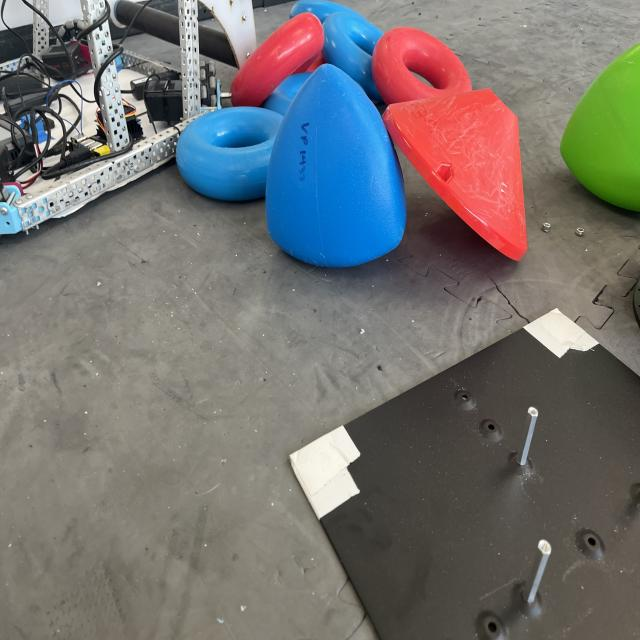Blue-Ring: (176, 107, 282, 200), (322, 12, 382, 102)
Red-Ring: (231, 12, 324, 107), (371, 27, 472, 105)
